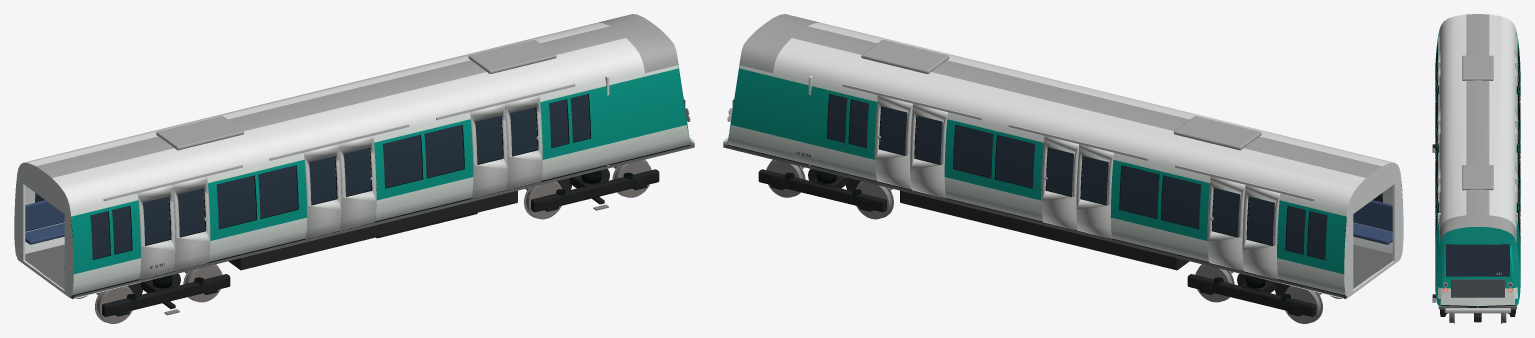
The model's file is mf01__tail.glb.
The picture shows the model from 3 angles, left to right: view 1: azimuth 30°, elevation 25°; view 2: azimuth 150°, elevation 25°; view 3: azimuth 270°, elevation 25°; orthographic projection. The views are drawn at different scales.
Visible parts, largest first — view 1: mf01_tail; view 2: mf01_tail; view 3: mf01_tail.
Boxes of the visible parts, bbox=[...] form: mf01_tail: bbox=[14, 14, 694, 323]; mf01_tail: bbox=[723, 14, 1403, 323]; mf01_tail: bbox=[1432, 14, 1520, 323].
Bounding box in the file's own units: 15.15 × 3.5 × 2.54.
10 materials, 5 textured.
